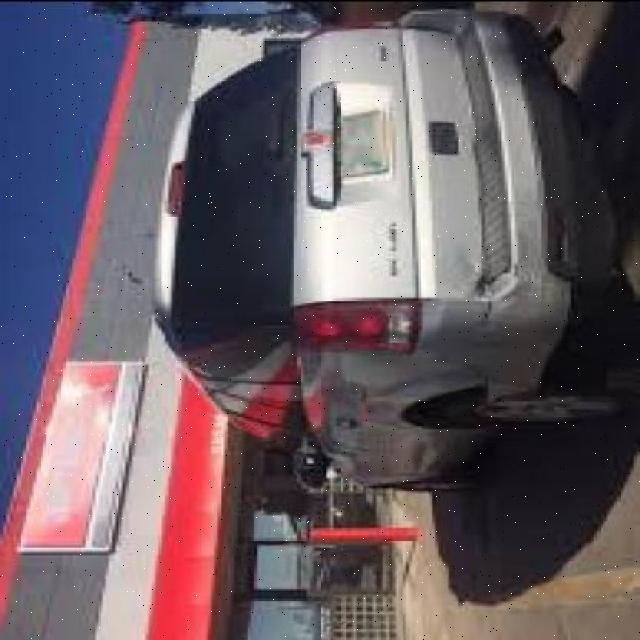damage: (460, 255, 540, 340)
